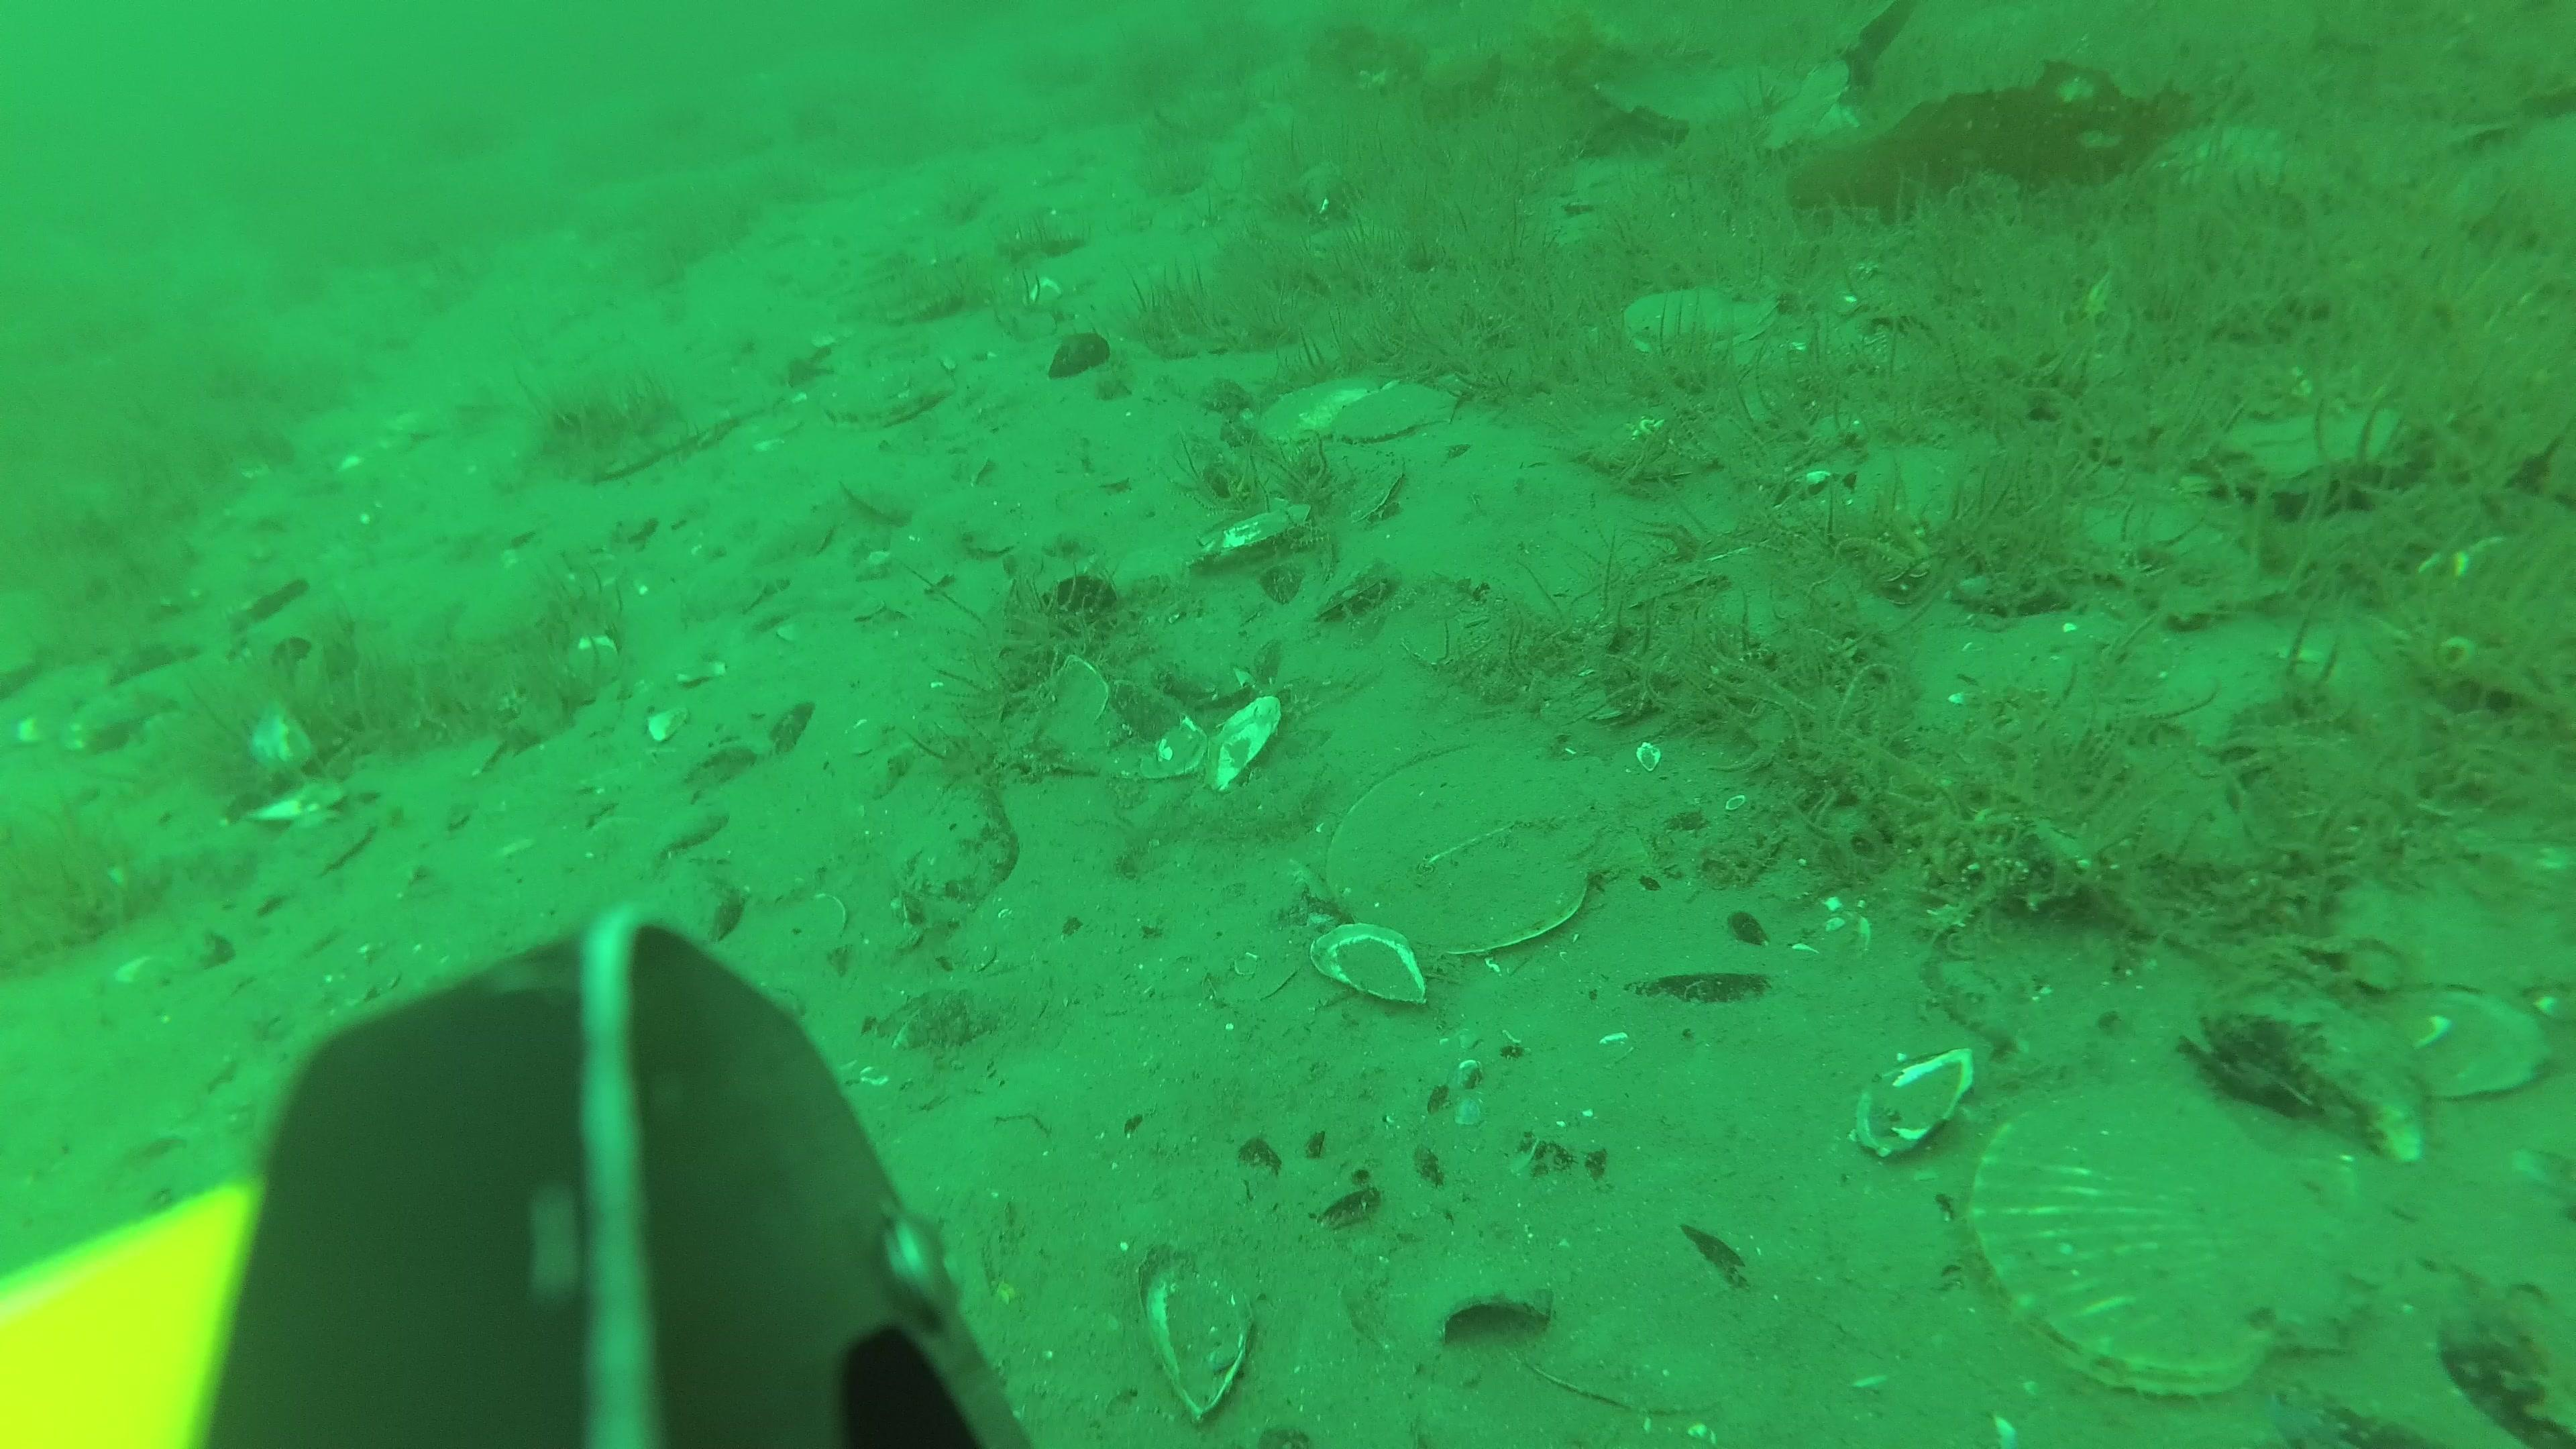scallop: (1980, 1079, 2358, 1394), (1323, 750, 1663, 957), (1626, 276, 1782, 357), (824, 356, 955, 430), (1270, 375, 1389, 444), (1339, 380, 1460, 446)
